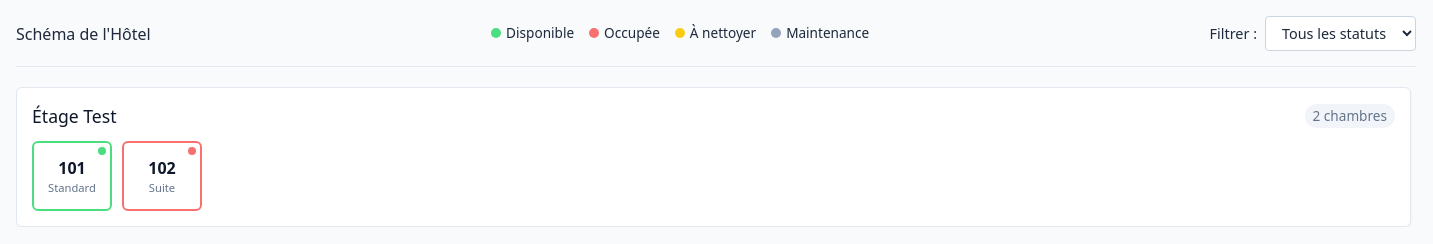
Test: HotelSchematicView Component › displays message when filter returns no rooms
Select "Maintenance" in the dropdown labelled "Filtrer :" at [1340, 34], box [1265,16,1416,51]
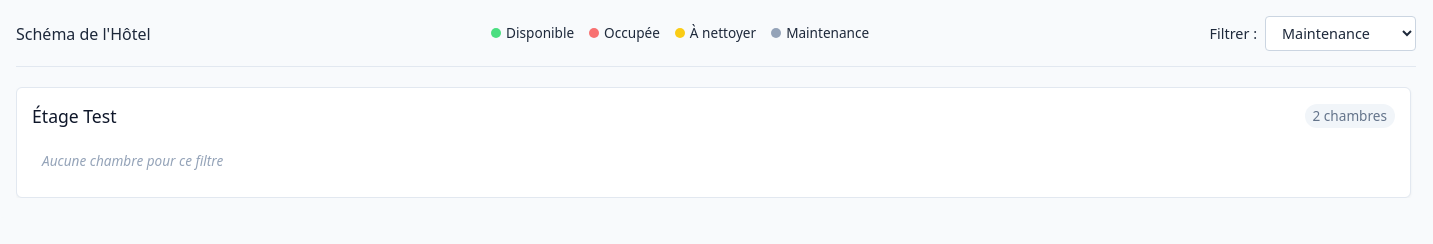
Check: the text "Aucune chambre pour ce filtre" is shown, box [42,151,223,170]
